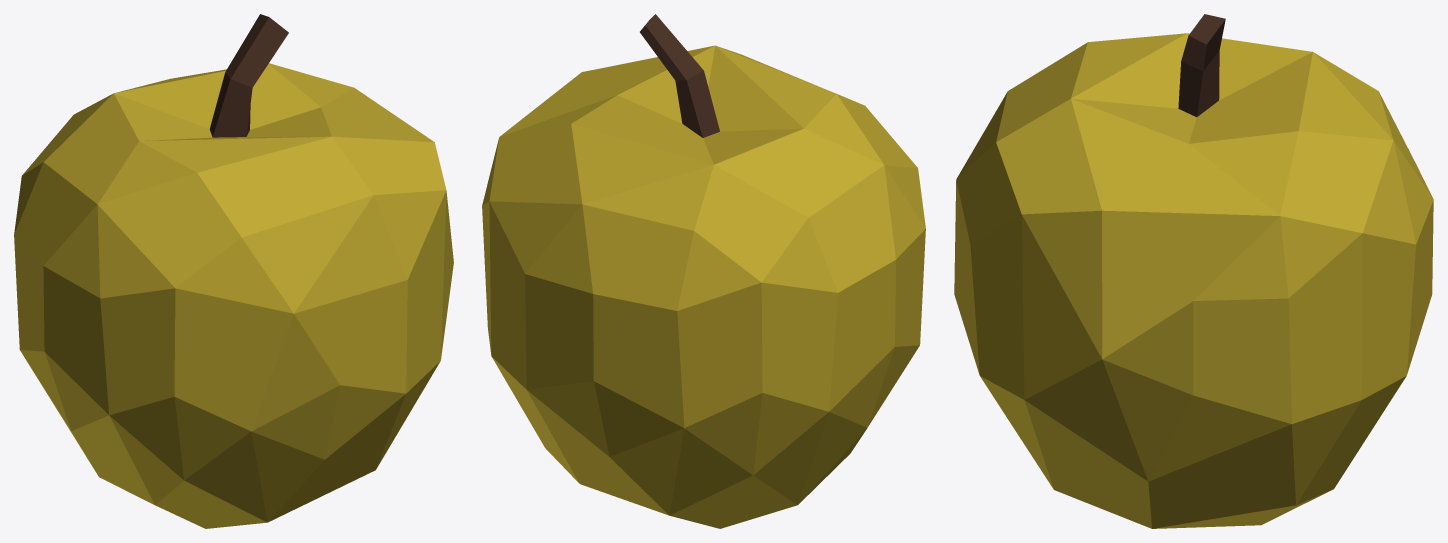
The model's file is apple3.fbx.
The picture shows the model from 3 angles, left to right: view 1: azimuth 30°, elevation 25°; view 2: azimuth 150°, elevation 25°; view 3: azimuth 270°, elevation 25°; orthographic projection. The views are drawn at different scales.
Visible parts, largest first — view 1: apple.002; view 2: apple.002; view 3: apple.002.
Part boxes in pixels (left/top/right/bottom): apple.002: left=14, top=14, right=453, bottom=528; apple.002: left=482, top=14, right=925, bottom=528; apple.002: left=954, top=14, right=1433, bottom=528.
Bounding box in the file's own units: 153 × 180 × 152.
